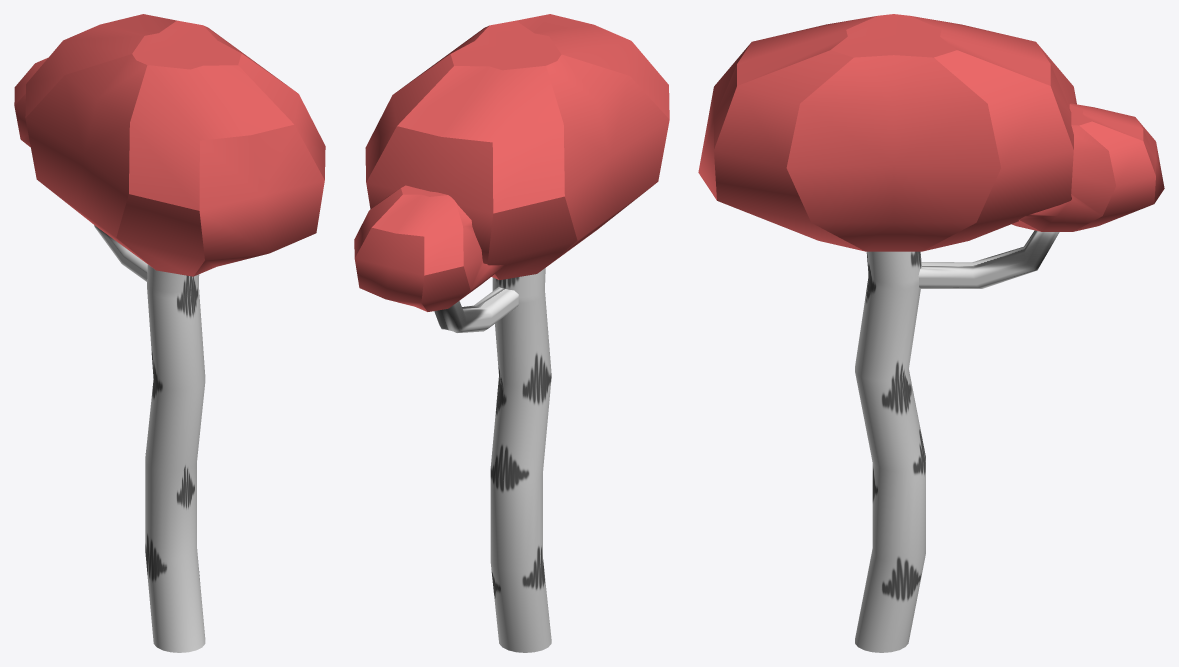
Rendered from Tree02.fbx.
3 renders of one model, left to right at view 1: azimuth 30°, elevation 25°; view 2: azimuth 150°, elevation 25°; view 3: azimuth 270°, elevation 25°, orthographic. The views are drawn at different scales.
Parts seen in each view (by area): view 1: Leaves001, Tree001; view 2: Leaves001, Tree001; view 3: Leaves001, Tree001.
Part boxes in pixels (bbox=[...]): Leaves001: bbox=[14, 14, 325, 276]; Tree001: bbox=[94, 225, 205, 652]; Leaves001: bbox=[354, 14, 669, 311]; Tree001: bbox=[434, 268, 551, 652]; Leaves001: bbox=[698, 14, 1164, 251]; Tree001: bbox=[855, 230, 1059, 652].
Size of the model in its own units: 41.94 by 119 by 82.41.
2 materials, 2 textured.
